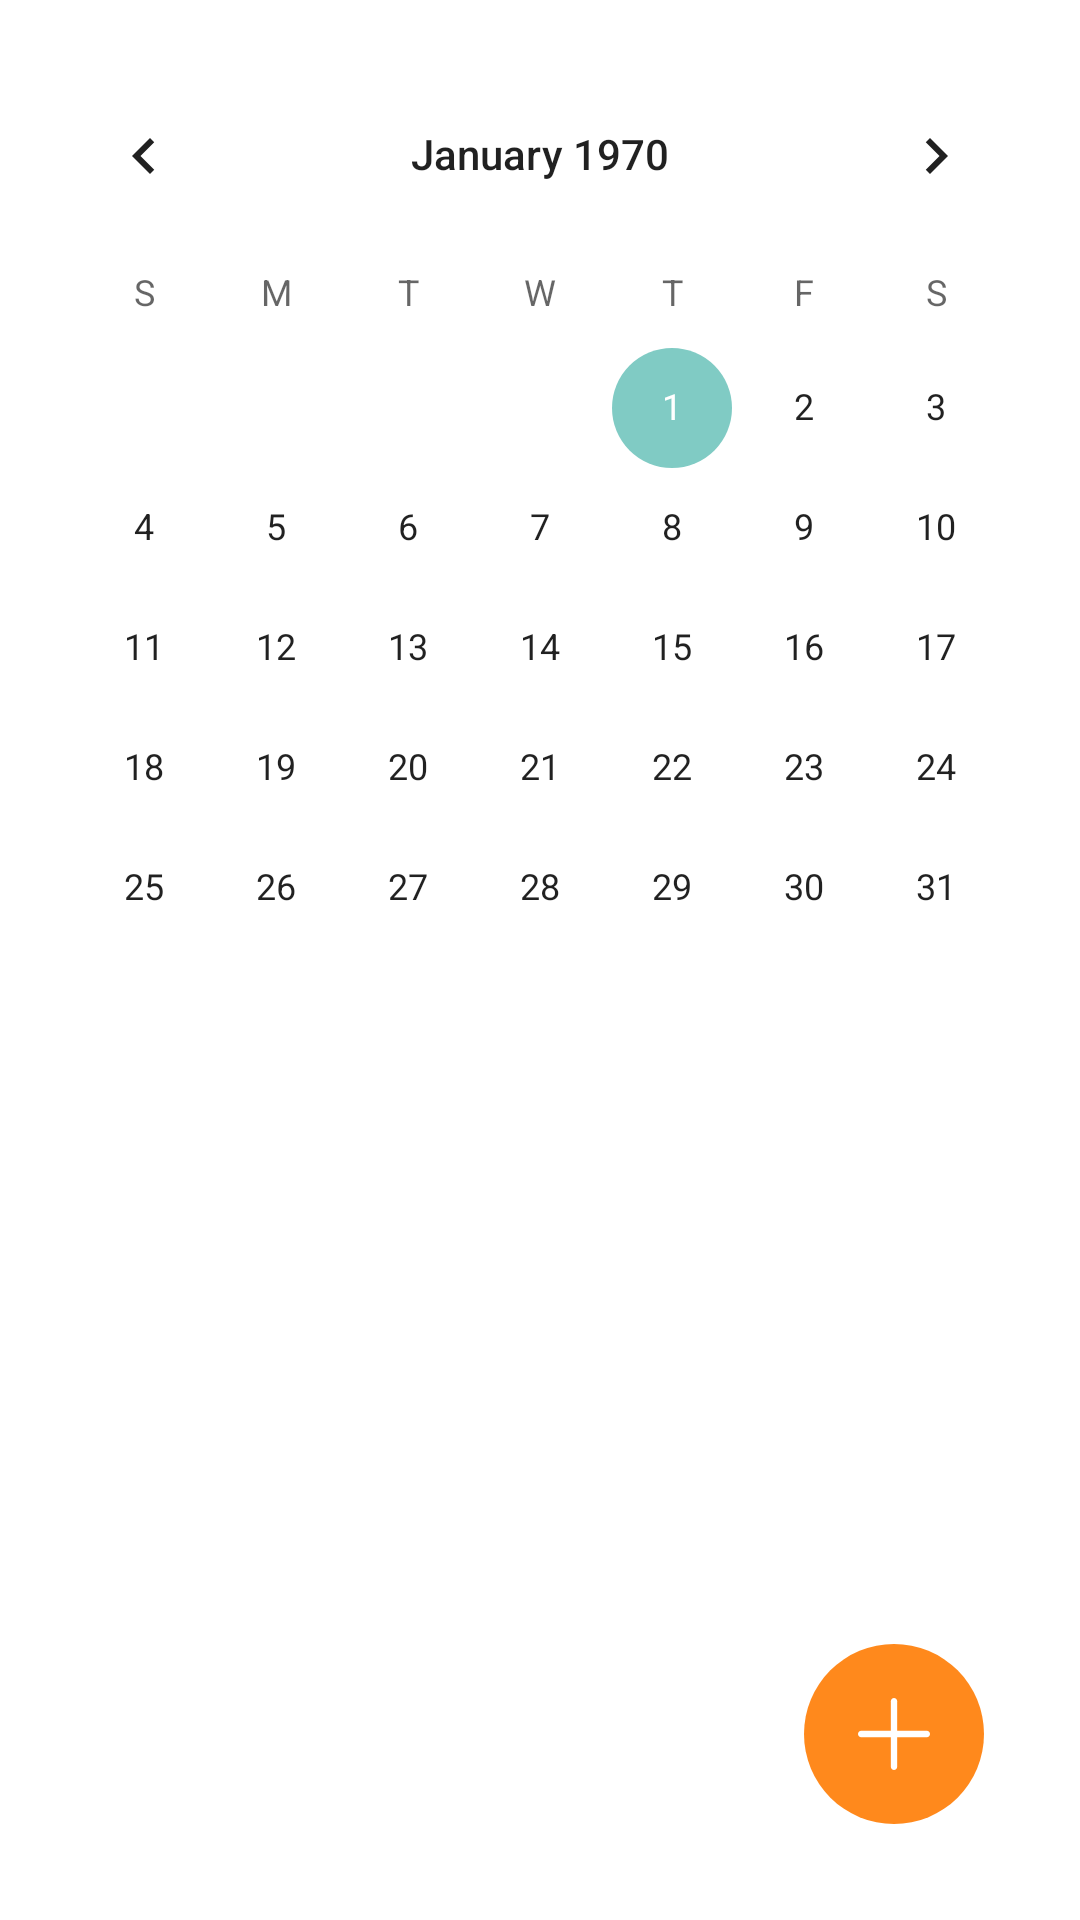

Screen size 1080px x 1920px. Icon name, then its box in pixels as (x1, y1, x2, y2):
plus: (804, 1644, 984, 1824)
